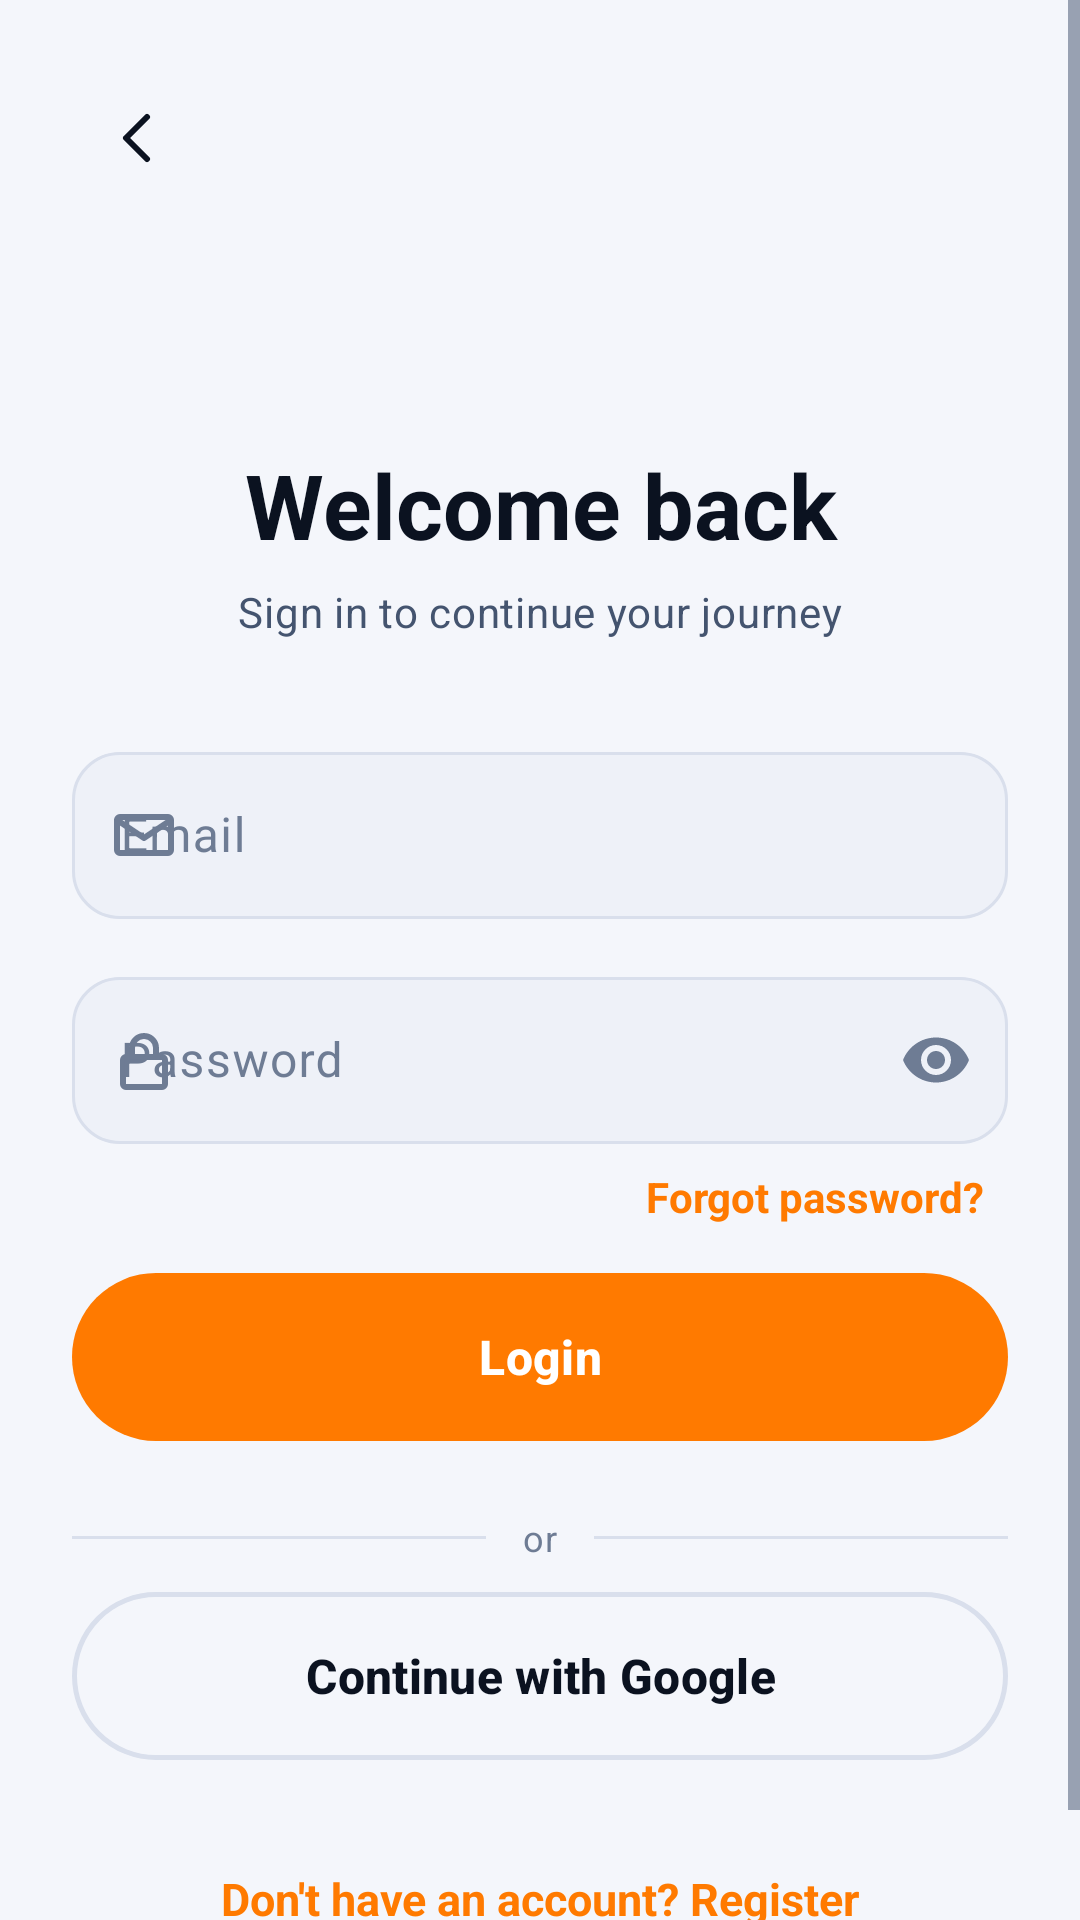

Icons on this 1080 × 1920 Android screen, each with the point to tap as (x,y):
Back: (136,138)
